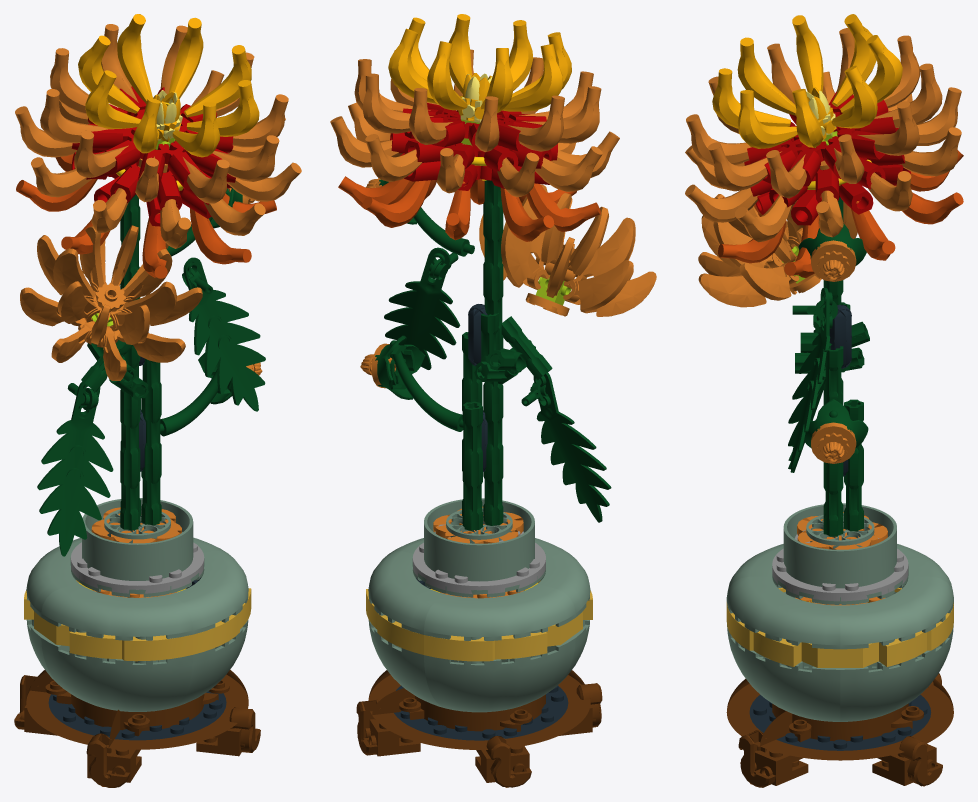
Rendered from chrysanthemum.glb.
3 renders of one model, left to right at view 1: azimuth 30°, elevation 25°; view 2: azimuth 150°, elevation 25°; view 3: azimuth 270°, elevation 25°, orthographic. The views are drawn at different scales.
Parts seen in each view (by area): view 1: p38, p93, p61, p68, p95, p60, p32, p0, p33, p69, p37, p62 (+63 smaller); view 2: p39, p68, p62, p95, p93, p63, p34, p0, p69, p61, p36, p33 (+58 smaller); view 3: p68, p60, p63, p37, p36, p35, p95, p0, p69, p125, p127, p34 (+65 smaller).
Boxes of the visible parts, x1,y1,x2,y2 form: p38: (41, 636, 192, 711); p93: (37, 381, 113, 556); p61: (41, 584, 193, 640); p68: (82, 498, 193, 580); p95: (183, 257, 265, 411); p60: (171, 550, 248, 634); p32: (108, 695, 237, 749); p0: (48, 691, 226, 740); p33: (26, 673, 117, 747); p69: (70, 542, 204, 593); p37: (172, 620, 248, 707); p62: (26, 538, 81, 616); p39: (424, 637, 575, 712); p68: (424, 498, 534, 581); p62: (424, 584, 575, 640); p95: (384, 247, 460, 369); p93: (533, 372, 611, 522); p63: (368, 551, 445, 634); p34: (372, 688, 496, 749); p0: (394, 685, 568, 740); p69: (412, 542, 545, 593); p61: (535, 538, 590, 617); p36: (368, 620, 445, 708); p33: (496, 692, 590, 747); p68: (783, 503, 896, 588); p60: (726, 576, 840, 649); p63: (840, 576, 953, 649); p37: (727, 625, 840, 721); p36: (840, 625, 953, 721); p35: (760, 711, 903, 760); p95: (788, 288, 832, 468); p0: (749, 694, 931, 750); p69: (772, 548, 908, 601); p125: (737, 37, 796, 115); p127: (737, 90, 797, 148); p34: (888, 679, 953, 743).
Size of the model in its own units: 14.22 by 35.06 by 12.28.
